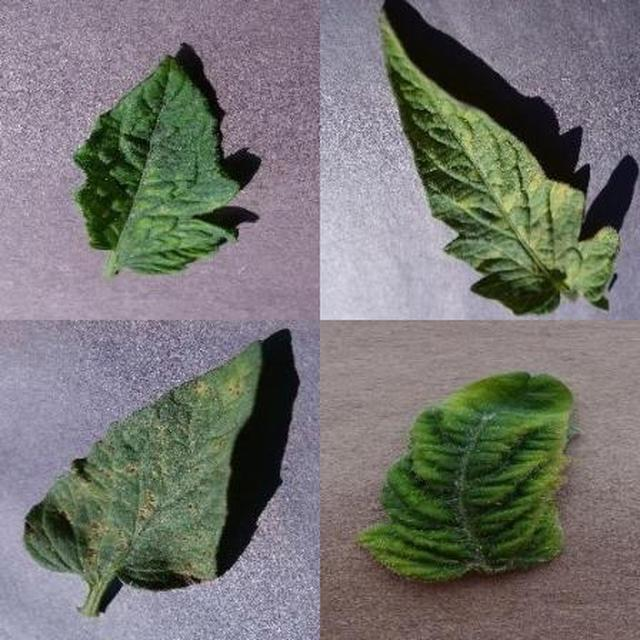Mosaic Virus Leaf: (202, 234, 640, 640)
